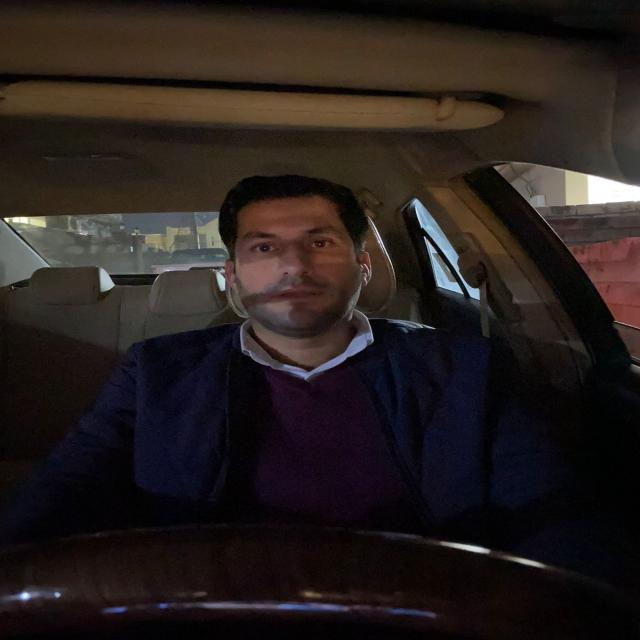person: (214, 164, 382, 337)
